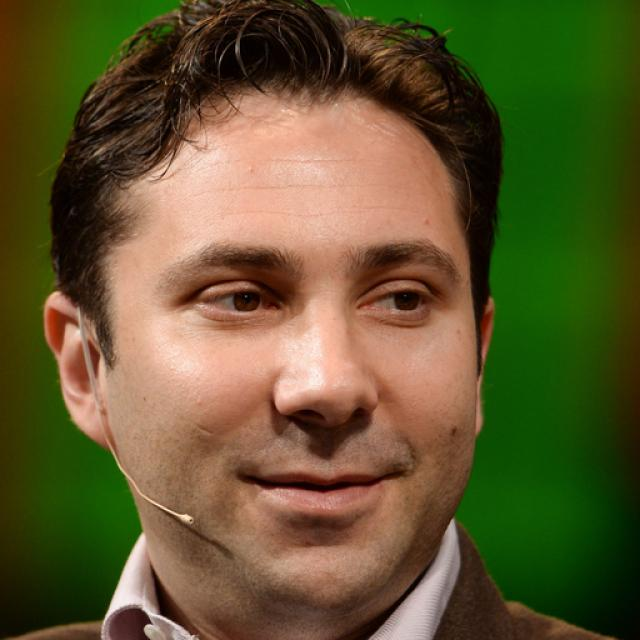Acne: (412, 213, 436, 230), (242, 162, 261, 176)
Wrinkle: (200, 178, 396, 195), (224, 202, 388, 222)
